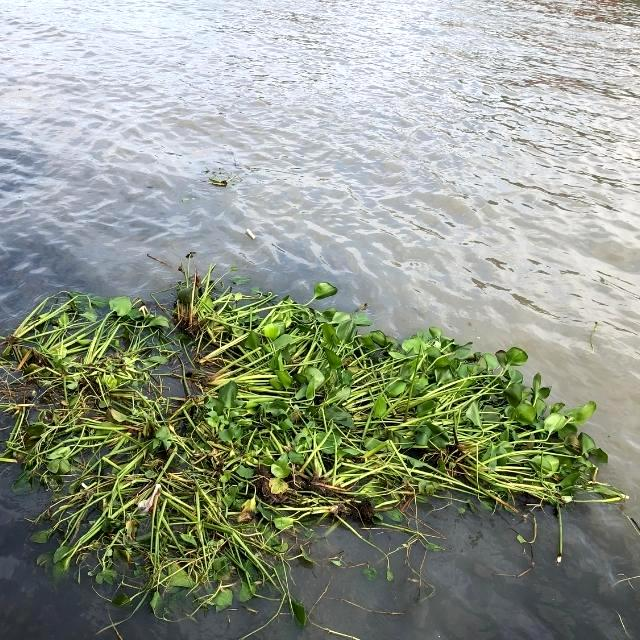water-hyacinth: (1, 252, 640, 628)
